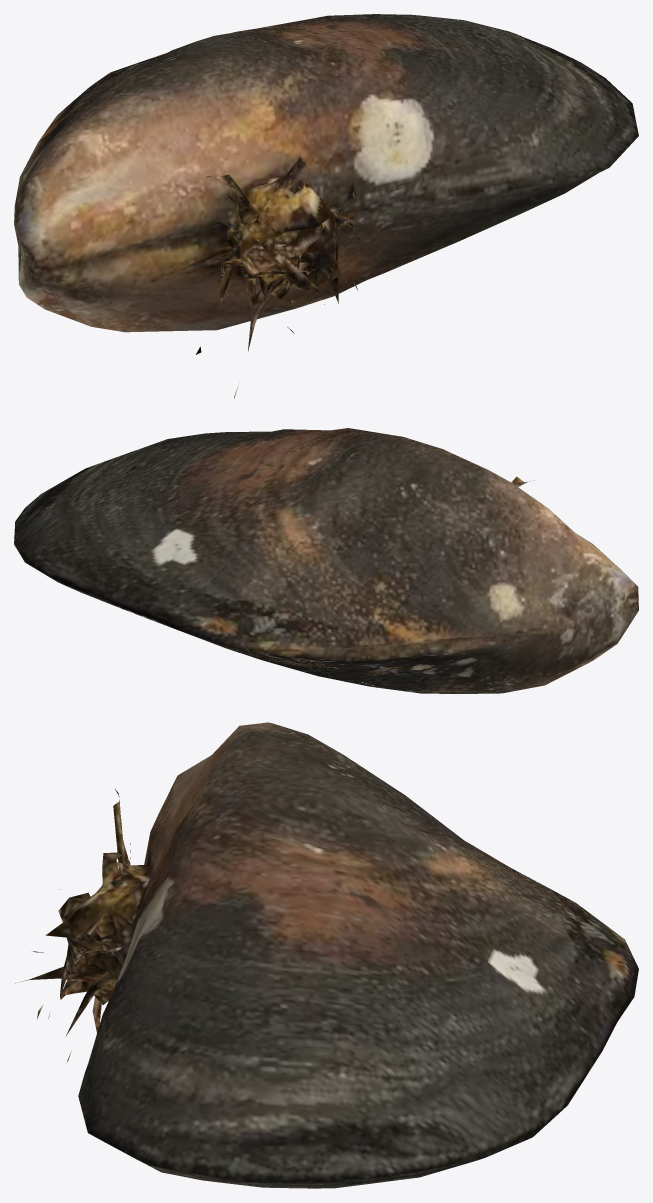
Rendered from mussel.glb.
3 views of the same model, one above another, from view 1: azimuth 30°, elevation 25°; view 2: azimuth 150°, elevation 25°; view 3: azimuth 270°, elevation 25° (orthographic). The views are drawn at different scales.
Parts seen in each view (by area): view 1: mussel_near; view 2: mussel_near; view 3: mussel_near.
Part boxes in pixels (x1,y1,x2,y2): mussel_near: (14,14,638,398); mussel_near: (14,428,638,693); mussel_near: (15,722,638,1188).
Size of the model in its own units: 0.0703 by 0.0289 by 0.0478.
1 material, 1 textured.
